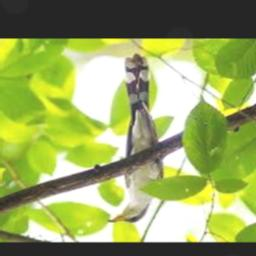Cuckoo: (106, 54, 162, 223)
